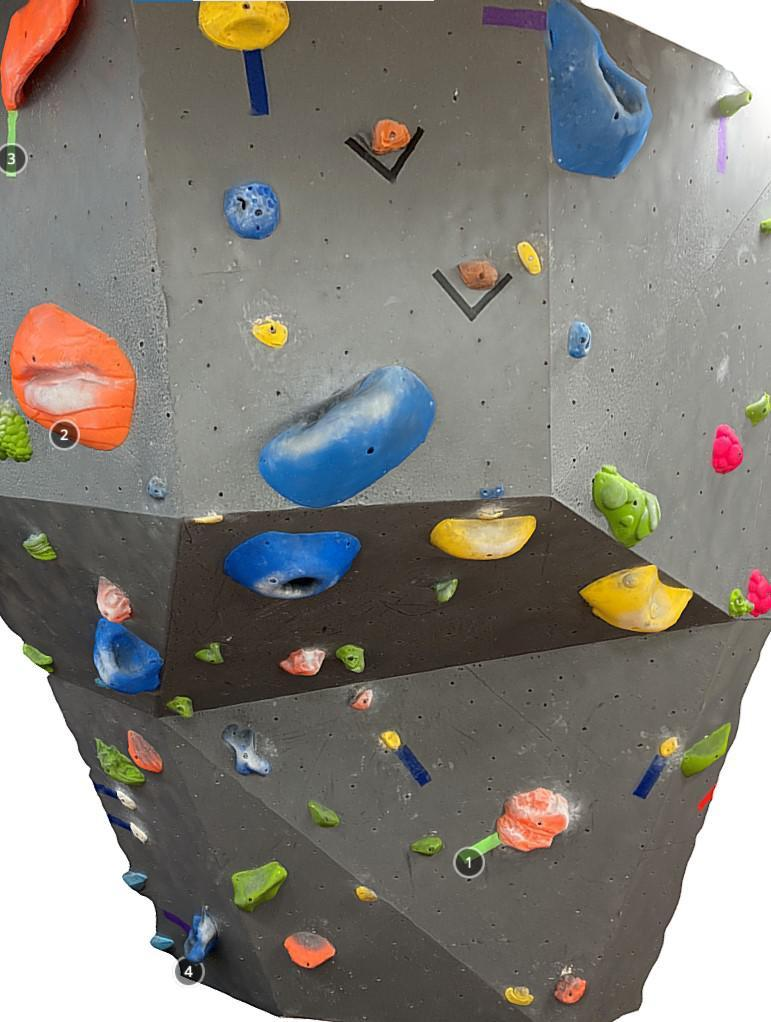hold: (258, 365, 435, 508), (545, 0, 653, 179), (9, 303, 136, 451), (223, 530, 362, 599), (0, 0, 79, 109), (578, 564, 694, 633), (593, 464, 661, 548), (93, 617, 164, 694), (430, 514, 537, 560), (495, 787, 569, 852), (198, 1, 290, 51), (224, 181, 281, 240), (680, 722, 731, 777), (222, 724, 272, 776), (95, 738, 146, 786), (183, 905, 219, 963), (0, 401, 34, 462), (283, 931, 337, 969), (96, 575, 134, 623), (712, 423, 744, 475), (127, 730, 163, 774), (372, 118, 411, 155), (279, 648, 326, 677), (746, 568, 771, 617), (457, 261, 499, 289), (253, 318, 289, 348), (22, 532, 58, 561), (554, 973, 587, 1004), (568, 320, 593, 359), (23, 642, 54, 673), (306, 800, 340, 827), (336, 643, 365, 674), (719, 91, 753, 117), (517, 241, 542, 275), (729, 587, 754, 616), (194, 641, 224, 665), (504, 985, 535, 1006), (433, 578, 459, 603), (411, 836, 442, 856), (165, 696, 193, 718), (145, 476, 168, 502), (349, 687, 373, 710), (122, 871, 148, 890), (380, 730, 401, 750), (477, 507, 509, 520), (355, 885, 378, 903), (150, 934, 174, 951), (478, 484, 505, 499), (116, 790, 136, 810), (660, 736, 679, 757), (130, 822, 148, 843), (192, 515, 225, 524), (759, 216, 771, 236)
